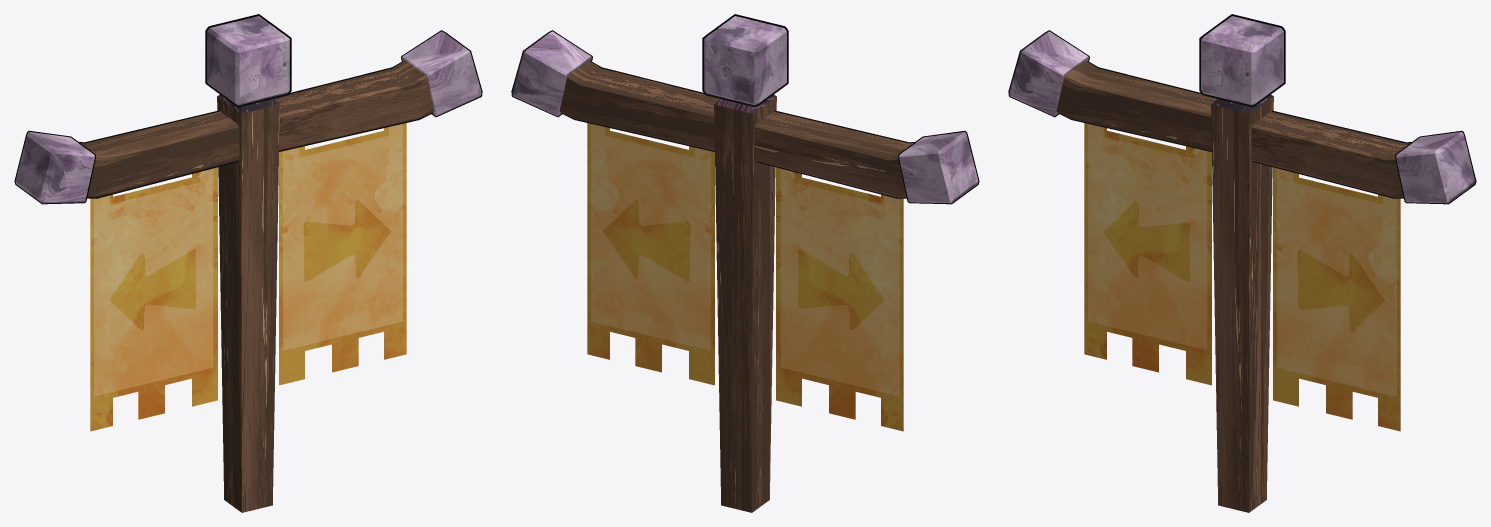
Rendered from entity14554n.gltf.
The picture shows the model from 3 angles, left to right: view 1: azimuth 30°, elevation 25°; view 2: azimuth 150°, elevation 25°; view 3: azimuth 330°, elevation 25°; orthographic projection.
Visible parts, largest first — view 1: node_Signal_01; view 2: node_Signal_01; view 3: node_Signal_01.
Part boxes in pixels (x1,y1,x2,y2): node_Signal_01: (14,14,482,512); node_Signal_01: (511,14,979,512); node_Signal_01: (1008,14,1476,512).
Size of what is drawn, in the model's own units: 2.63 by 2.68 by 0.3415.
